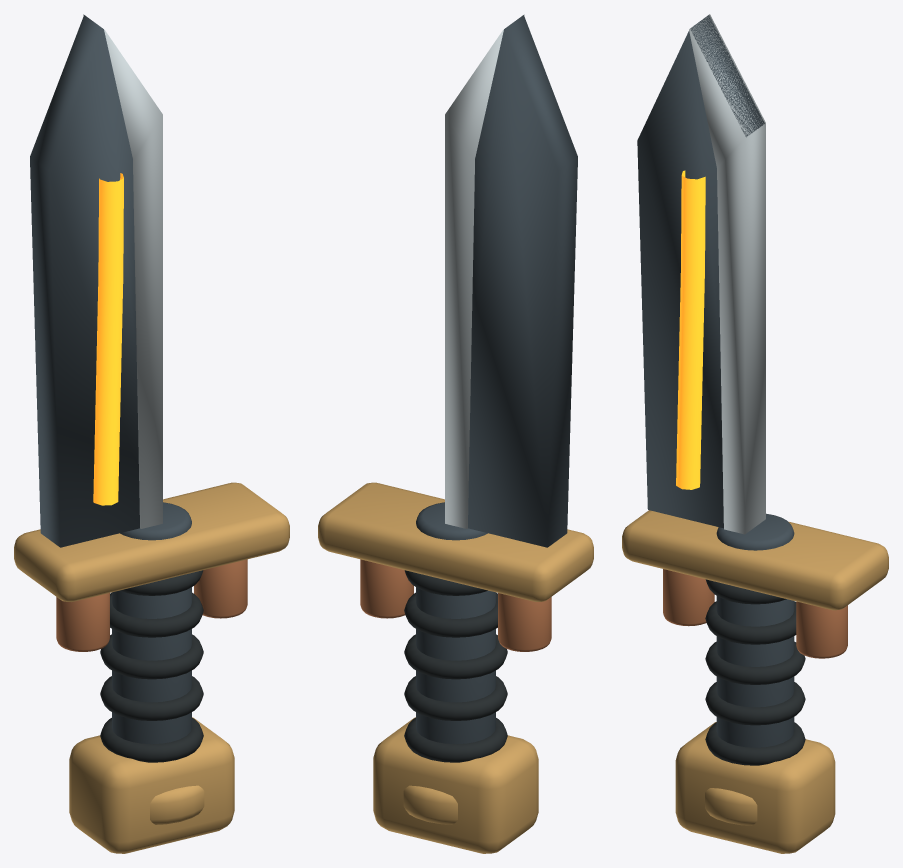
Rendered from flame_sword.t4.glb.
3 renders of one model, left to right at view 1: azimuth 30°, elevation 25°; view 2: azimuth 150°, elevation 25°; view 3: azimuth 330°, elevation 25°, orthographic. The views are drawn at different scales.
Visible parts, largest first — view 1: weapon_right__forged_bluelead_steel__protected, weapon_right__worn_warm_brass__protected, weapon_right__honed_steel_edge__protected, weapon_right__charcoal_rubber__protected, weapon_right__flame_channel__protected, weapon_right__burnished_copper__protected; view 2: weapon_right__forged_bluelead_steel__protected, weapon_right__worn_warm_brass__protected, weapon_right__honed_steel_edge__protected, weapon_right__charcoal_rubber__protected, weapon_right__burnished_copper__protected; view 3: weapon_right__forged_bluelead_steel__protected, weapon_right__worn_warm_brass__protected, weapon_right__honed_steel_edge__protected, weapon_right__charcoal_rubber__protected, weapon_right__flame_channel__protected, weapon_right__burnished_copper__protected.
Boxes of the visible parts, <box> form: weapon_right__forged_bluelead_steel__protected: <box>30,15,191,744</box>; weapon_right__worn_warm_brass__protected: <box>14,482,289,853</box>; weapon_right__honed_steel_edge__protected: <box>83,14,162,528</box>; weapon_right__charcoal_rubber__protected: <box>100,570,203,762</box>; weapon_right__flame_channel__protected: <box>93,173,123,505</box>; weapon_right__burnished_copper__protected: <box>56,559,247,651</box>; weapon_right__forged_bluelead_steel__protected: <box>416,15,577,744</box>; weapon_right__worn_warm_brass__protected: <box>318,482,593,853</box>; weapon_right__honed_steel_edge__protected: <box>445,14,524,528</box>; weapon_right__charcoal_rubber__protected: <box>404,570,507,762</box>; weapon_right__burnished_copper__protected: <box>360,559,551,651</box>; weapon_right__forged_bluelead_steel__protected: <box>637,15,794,747</box>; weapon_right__worn_warm_brass__protected: <box>622,510,888,853</box>; weapon_right__honed_steel_edge__protected: <box>689,14,765,534</box>; weapon_right__charcoal_rubber__protected: <box>705,579,805,765</box>; weapon_right__flame_channel__protected: <box>676,170,705,489</box>; weapon_right__burnished_copper__protected: <box>663,569,847,658</box>.
Bounding box in the file's own units: 0.3392 × 1.15 × 0.1505.
